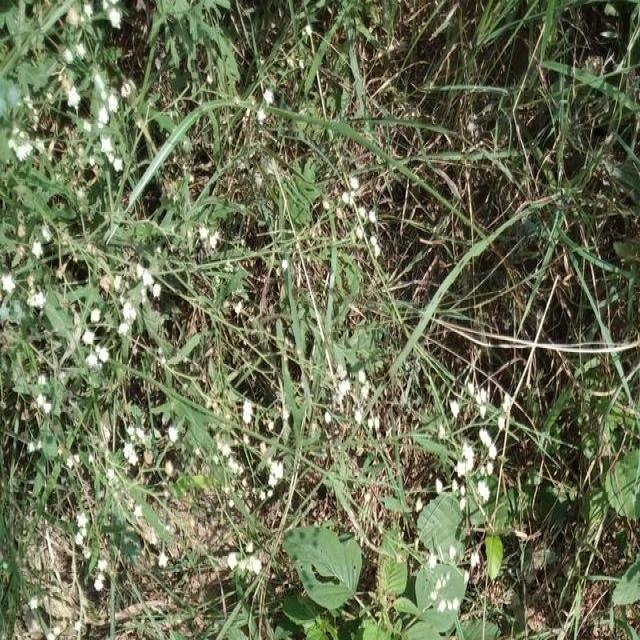weed: (6, 34, 186, 529), (264, 121, 382, 442), (291, 533, 473, 640)
